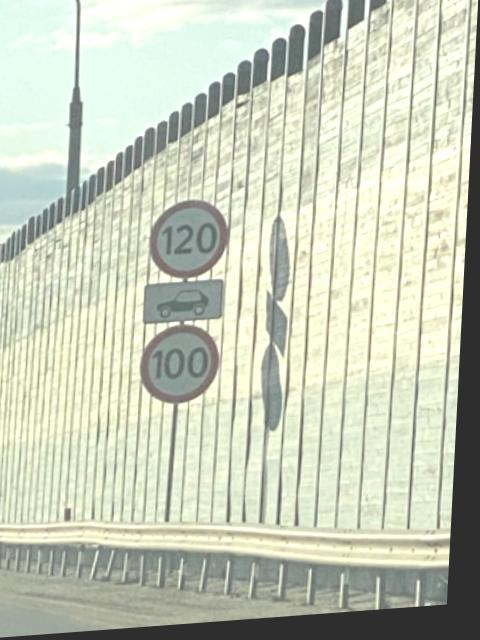limit100: (142, 324, 229, 417)
limit120: (147, 193, 241, 283)
